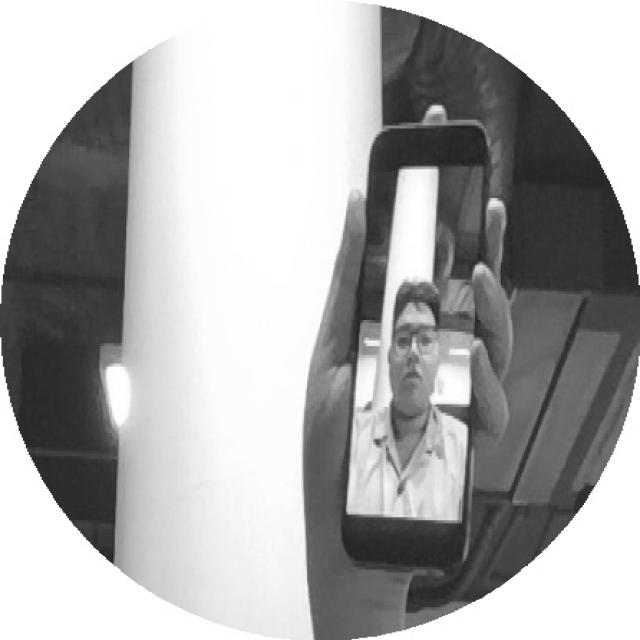fake: (287, 105, 496, 581), (367, 284, 469, 433)
